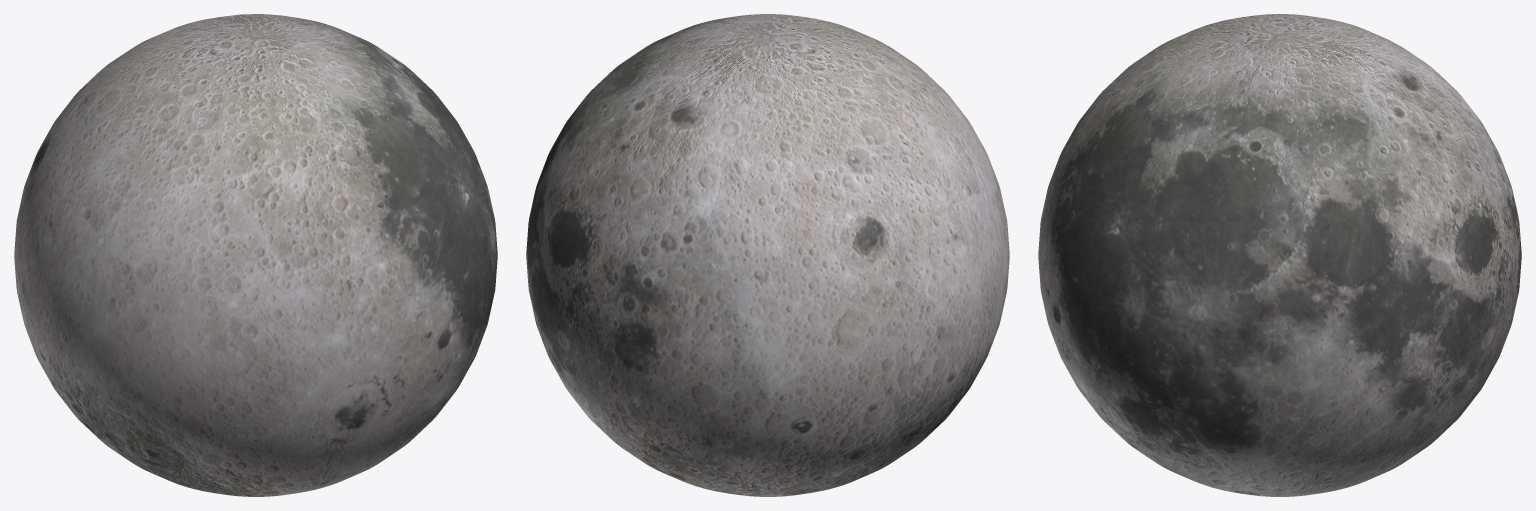
Rendered from moon.glb.
The picture shows the model from 3 angles, left to right: view 1: azimuth 30°, elevation 25°; view 2: azimuth 150°, elevation 25°; view 3: azimuth 270°, elevation 25°; orthographic projection.
Visible parts, largest first — view 1: Sphere_Material.002_0; view 2: Sphere_Material.002_0; view 3: Sphere_Material.002_0.
Boxes of the visible parts, left/top/right/bottom form: Sphere_Material.002_0: left=14, top=14, right=497, bottom=496; Sphere_Material.002_0: left=526, top=14, right=1009, bottom=496; Sphere_Material.002_0: left=1038, top=14, right=1521, bottom=496.
Size of the model in its own units: 200 by 200 by 200.
1 material, 1 textured.
